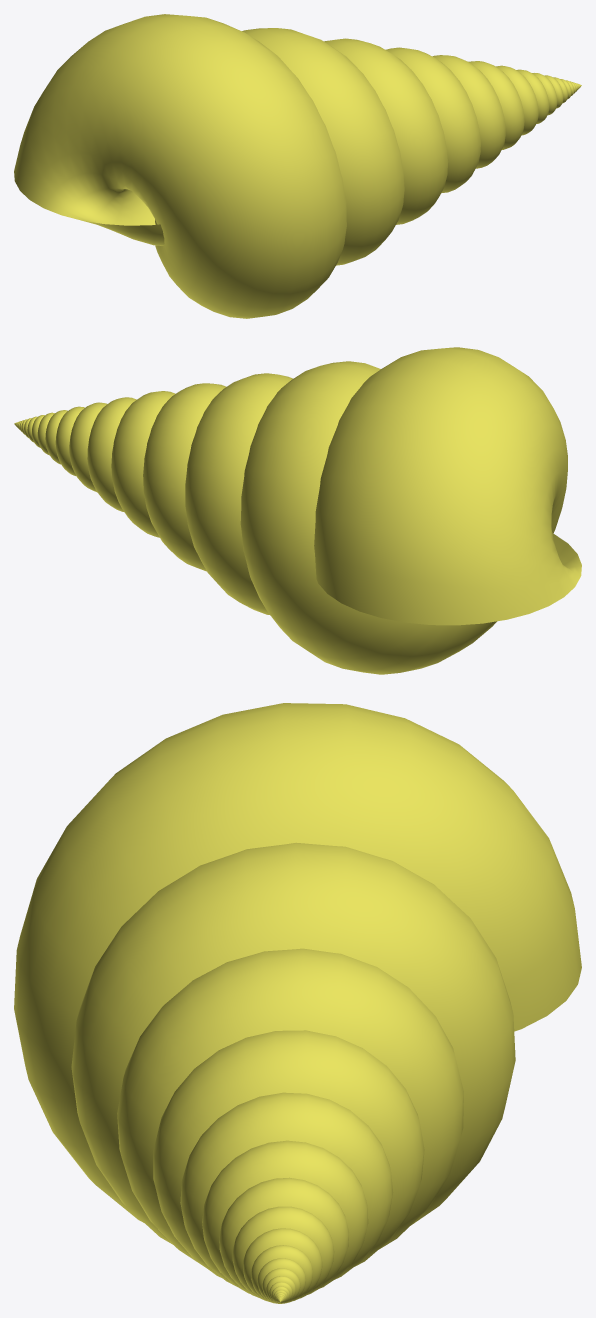
The picture shows the model from 3 angles, top to bottom: view 1: azimuth 30°, elevation 25°; view 2: azimuth 150°, elevation 25°; view 3: azimuth 270°, elevation 25°; orthographic projection. The views are drawn at different scales.
Parts seen in each view (by area): view 1: t21; view 2: t21; view 3: t21.
Part boxes in pixels (x1,y1,x2,y2): t21: (14,14,581,318); t21: (14,347,581,674); t21: (14,703,581,1303).
Size of the model in its own units: 500 by 260 by 276.
